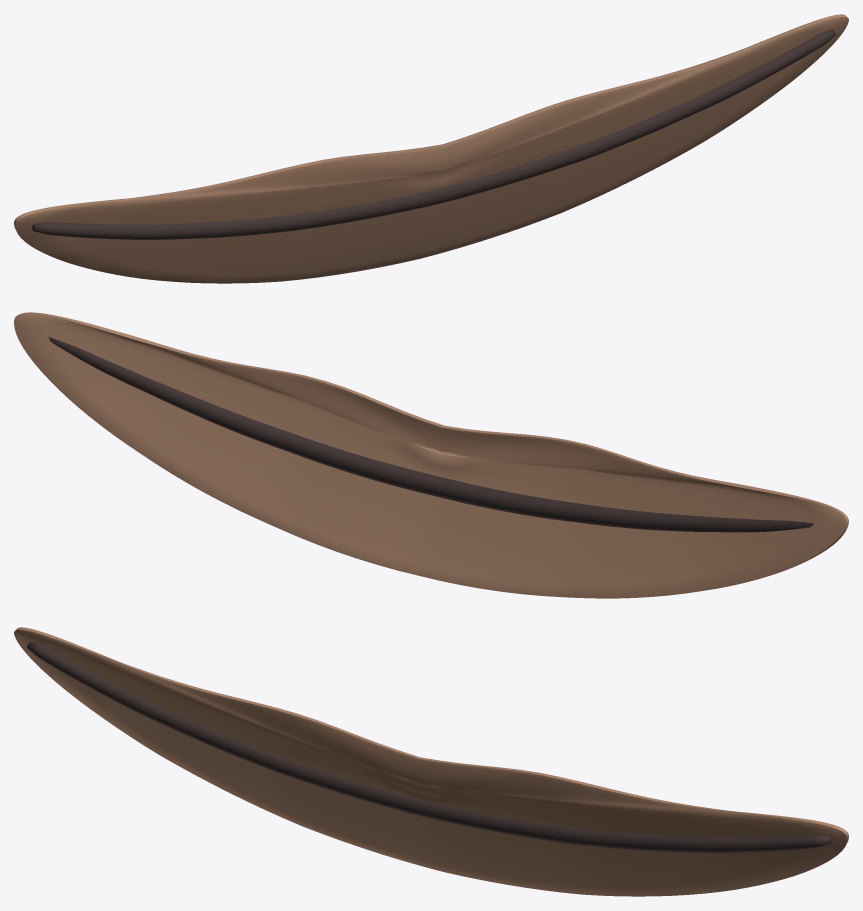
Rendered from Feminine-mouth-lips.glb.
The picture shows the model from 3 angles, top to bottom: view 1: azimuth 30°, elevation 25°; view 2: azimuth 150°, elevation 25°; view 3: azimuth 330°, elevation 25°; orthographic projection.
Visible parts, largest first — view 1: Face / closed mouth182, Face / closed seam182; view 2: Face / closed mouth182, Face / closed seam182; view 3: Face / closed mouth182, Face / closed seam182.
Part boxes in pixels (x1,y1,x2,y2): Face / closed mouth182: [14, 14, 848, 283]; Face / closed seam182: [31, 29, 835, 239]; Face / closed mouth182: [14, 312, 848, 598]; Face / closed seam182: [48, 336, 813, 532]; Face / closed mouth182: [14, 627, 848, 896]; Face / closed seam182: [27, 642, 831, 852].
Size of the model in its own units: 0.1562 by 0.0279 by 0.00927.
